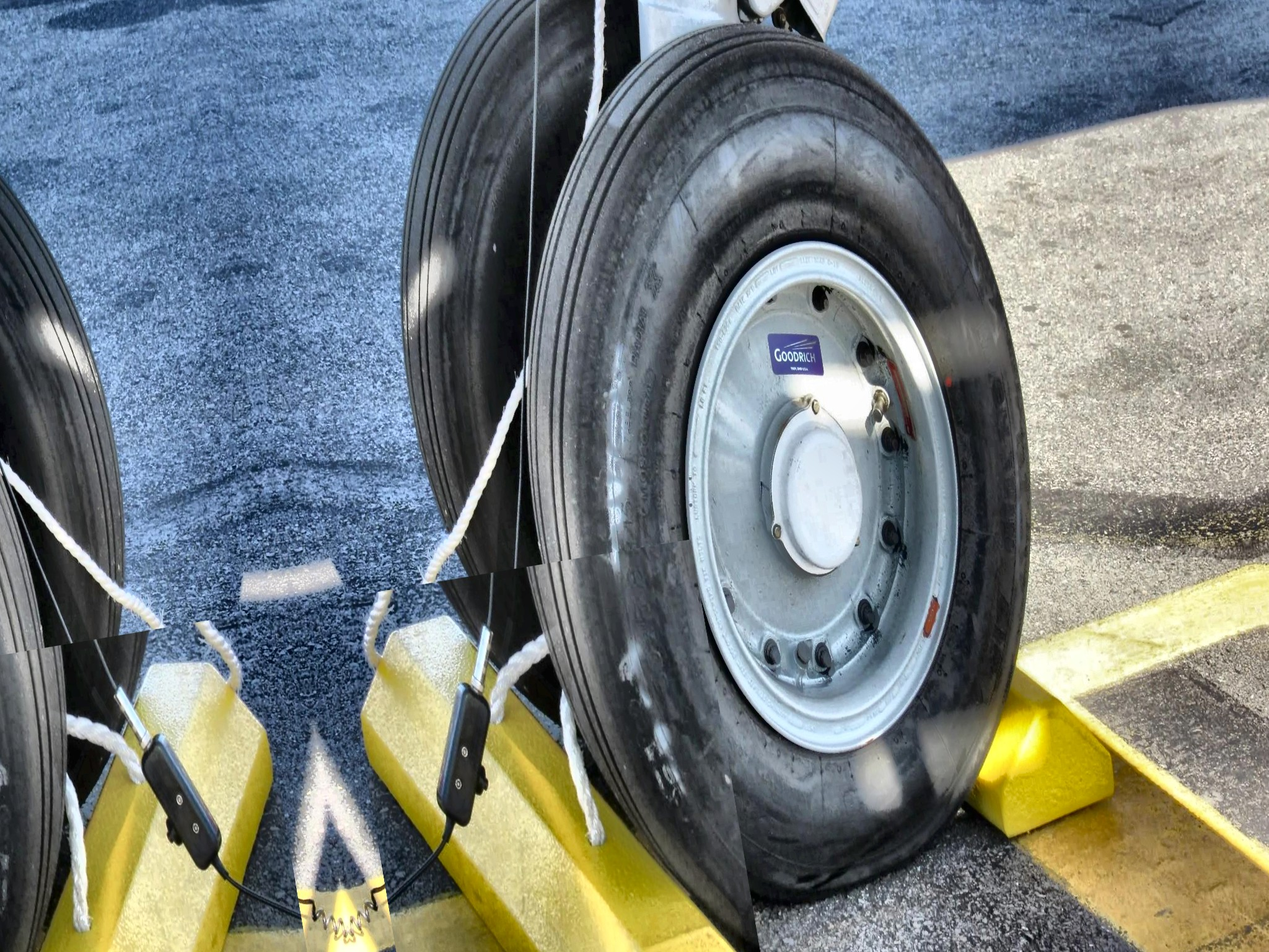chock: (337, 539, 782, 952), (387, 545, 755, 952), (0, 613, 340, 952), (824, 479, 1122, 853), (0, 626, 277, 952)
wheel: (464, 0, 1098, 922), (346, 0, 737, 674), (0, 43, 157, 771)
